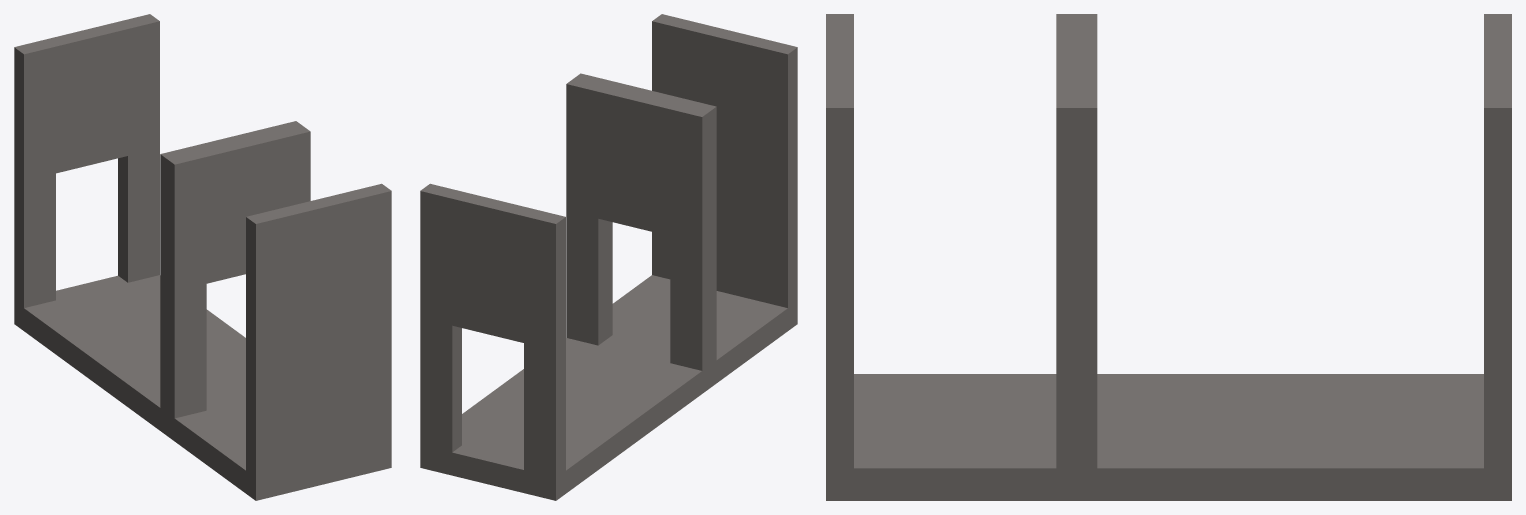
The model's file is NordEst1.fbx.
3 views of the same model, side by side, from view 1: azimuth 30°, elevation 25°; view 2: azimuth 150°, elevation 25°; view 3: azimuth 270°, elevation 25° (orthographic). The views are drawn at different scales.
Parts seen in each view (by area): view 1: NordEst1; view 2: NordEst1; view 3: NordEst1.
Boxes of the visible parts, bbox=[...] form: NordEst1: bbox=[14, 14, 391, 500]; NordEst1: bbox=[420, 14, 797, 500]; NordEst1: bbox=[826, 14, 1511, 500].
Size of the model in its own units: 3.33 by 6.49 by 10.26.
